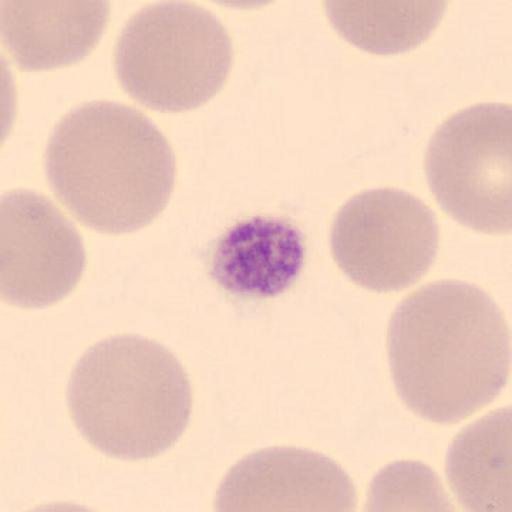Platelet: (206, 210, 310, 303)
RBC: (40, 98, 178, 238), (385, 277, 510, 425), (64, 332, 193, 462), (112, 0, 235, 116), (326, 183, 440, 295), (422, 99, 512, 237), (3, 185, 88, 311), (211, 443, 361, 512), (2, 1, 112, 74), (317, 0, 450, 56), (443, 406, 512, 512), (360, 457, 468, 512), (0, 45, 20, 151), (4, 498, 120, 512), (182, 0, 293, 11)
